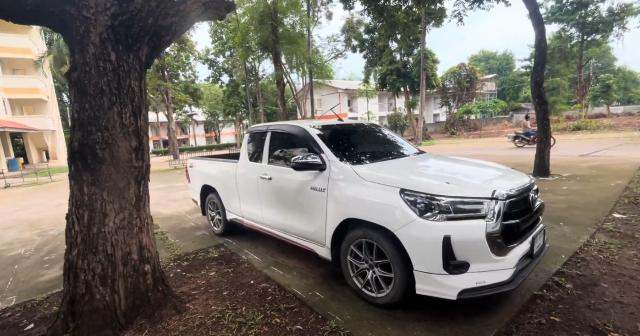pickup-truck: (184, 119, 549, 308)
